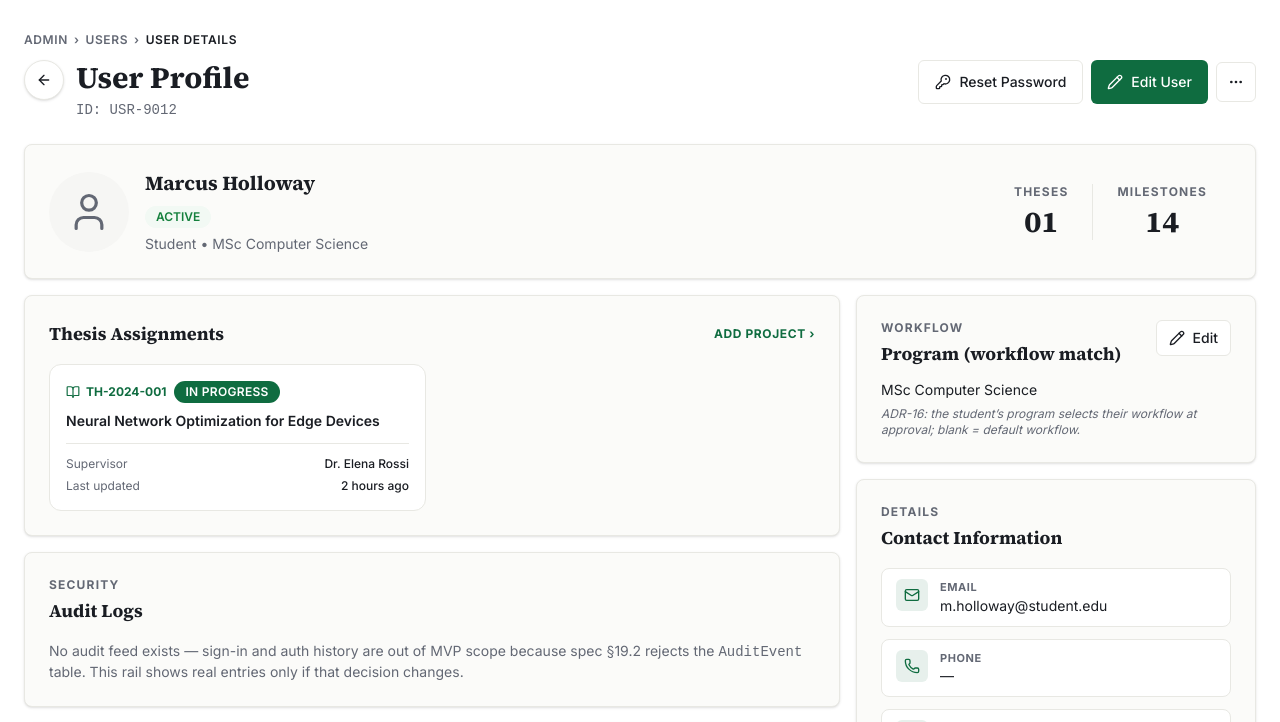
Test: UserProfile program edit (task 13.7 — §11.0.2 / ADR-16) › surfaces a failed program PATCH inline and never fakes success (Rule 3)
The width and height of the screenshot is (1280, 722).
Click the button "Edit" at (1193, 338), box x1=1156 y1=320 x2=1231 y2=356
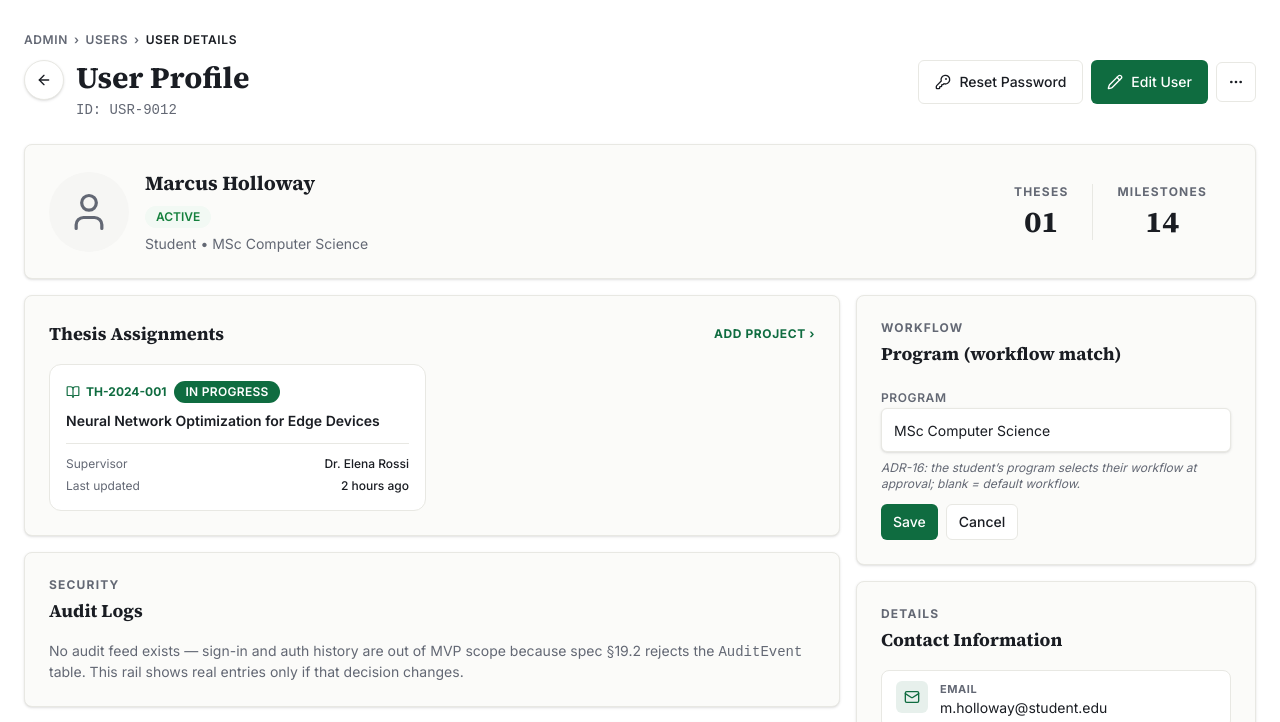
Replace the text in the field labelled "Program" with "Data Science" at (1056, 430), box x1=881 y1=408 x2=1231 y2=452
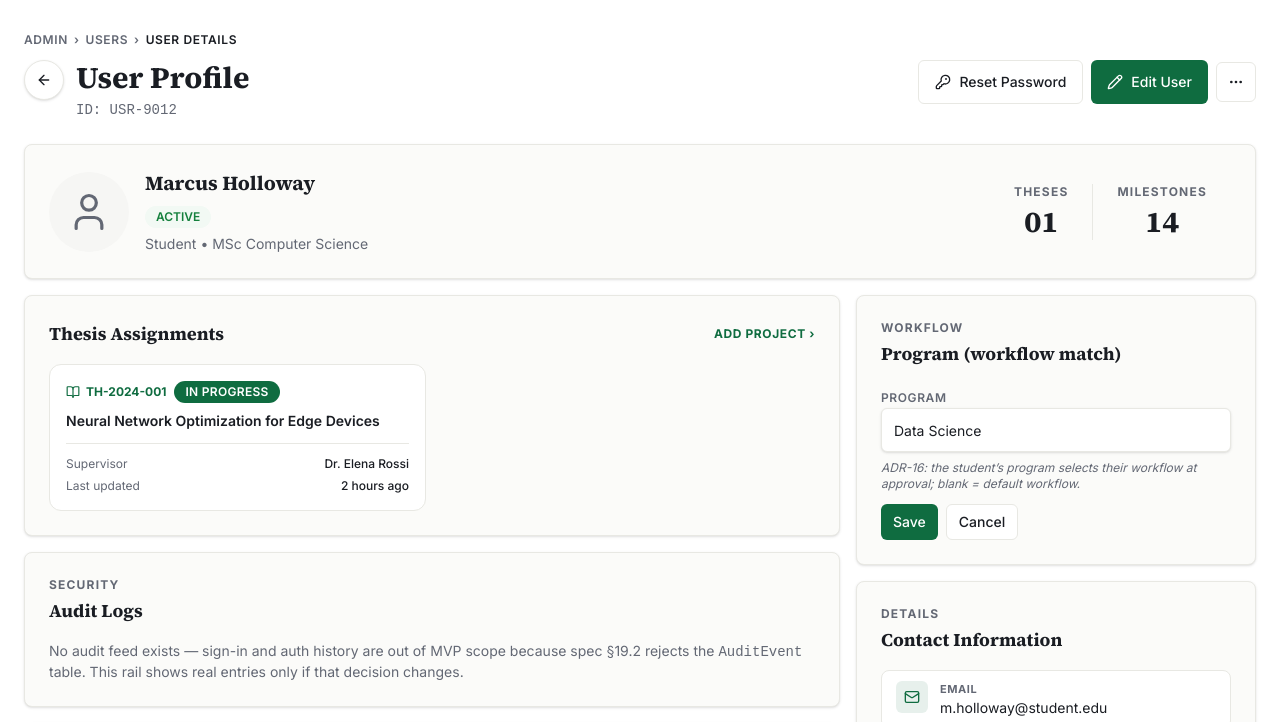
Click the button "Save" at (909, 522), box x1=881 y1=504 x2=938 y2=540
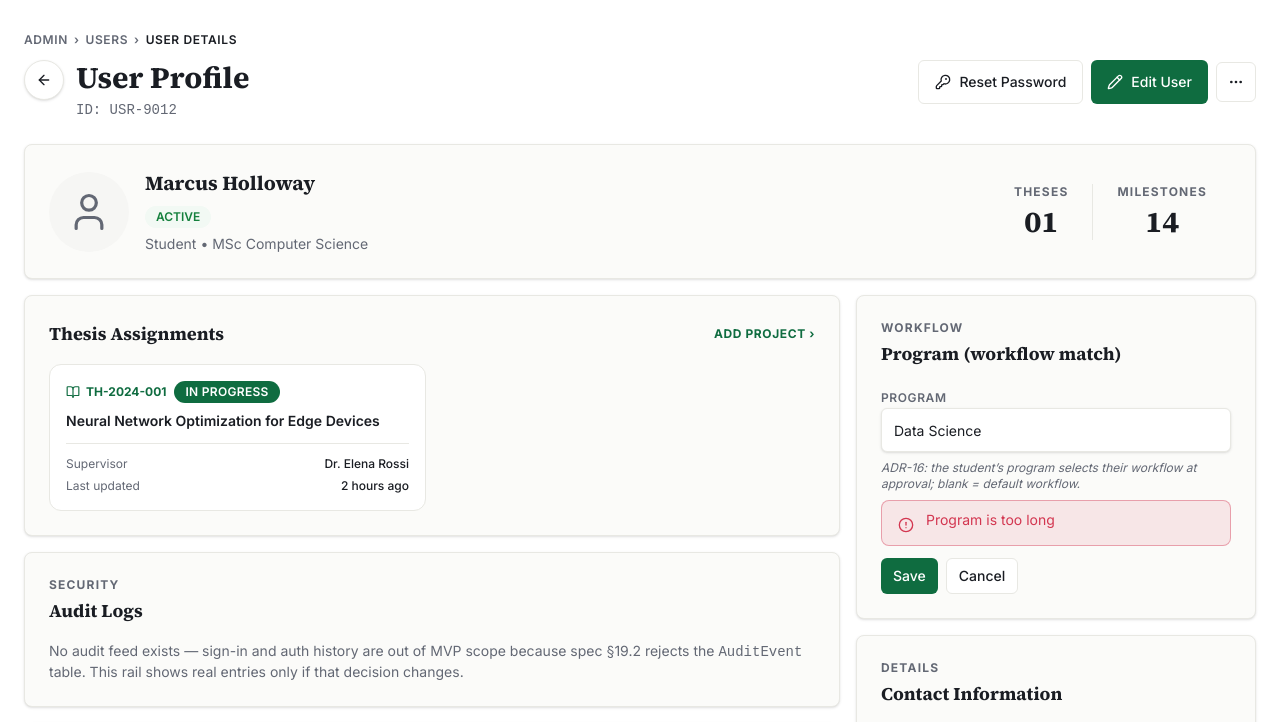
expect the button "Save" is shown: met, box x1=881 y1=558 x2=938 y2=594
expect the text "Program is too long" is shown: met, box x1=926 y1=511 x2=1055 y2=528
